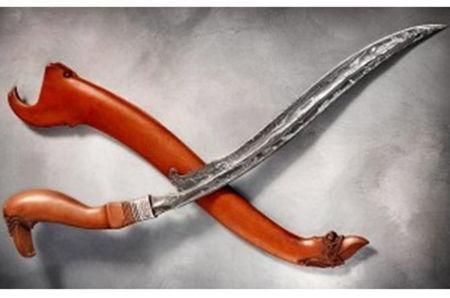facao: (57, 20, 446, 242)
